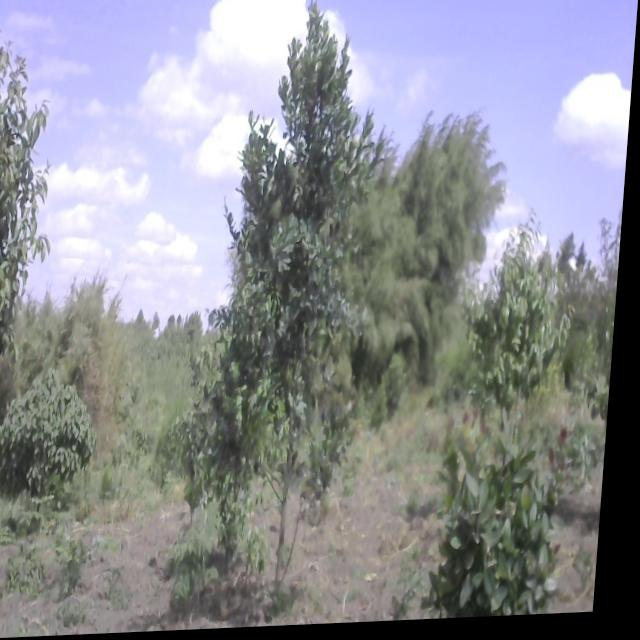Hass Avocado: (0, 33, 68, 386)
Lemon Myrtle: (462, 208, 592, 412)
Syzygium gineense: (434, 405, 587, 624)
other: (191, 0, 393, 607), (0, 370, 107, 519)
